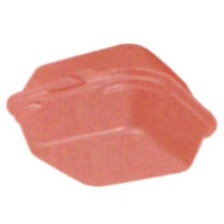foam_box: (1, 39, 221, 195)
